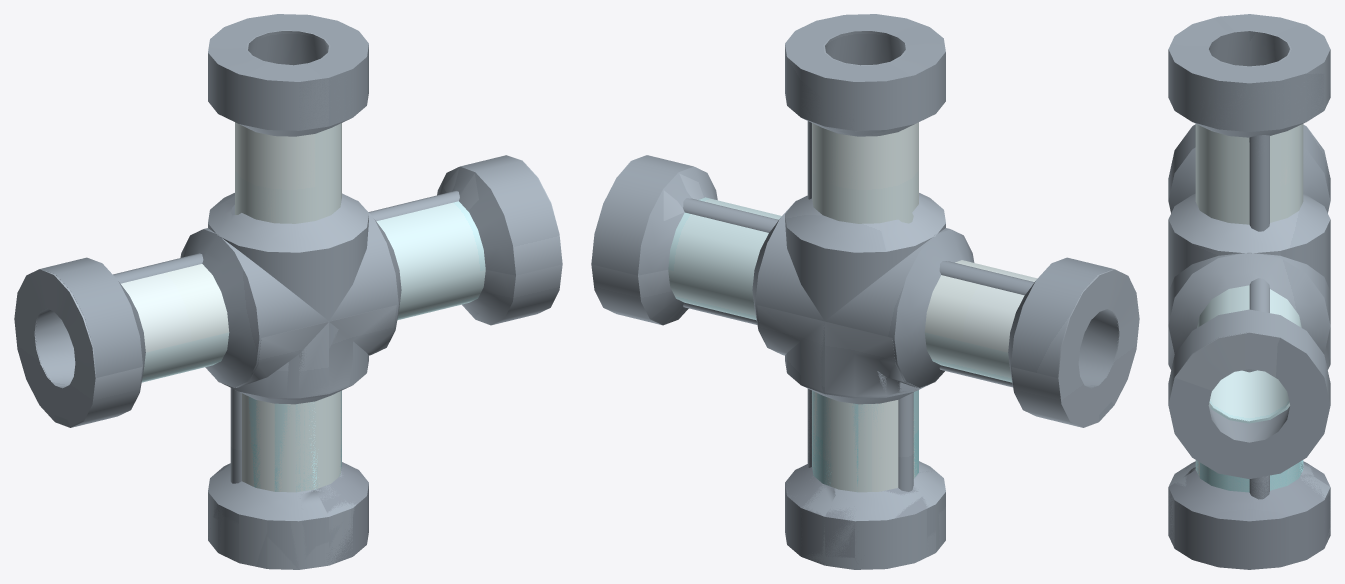
File: Pipes_MESH.FBX
3 renders of one model, left to right at view 1: azimuth 30°, elevation 25°; view 2: azimuth 150°, elevation 25°; view 3: azimuth 270°, elevation 25°, orthographic.
Parts seen in each view (by area): view 1: PipePlus, PipeT, PipeStraight, PipeCorner; view 2: PipePlus, PipeT, PipeStraight, PipeCorner; view 3: PipePlus, PipeStraight, PipeT.
Part boxes in pixels (x1=…): PipePlus: x1=35, y1=31, x2=562, y2=569; PipeT: x1=14, y1=157, x2=562, y2=569; PipeStraight: x1=208, y1=14, x2=368, y2=564; PipeCorner: x1=217, y1=235, x2=395, y2=487; PipePlus: x1=591, y1=14, x2=1127, y2=569; PipeT: x1=591, y1=155, x2=1139, y2=569; PipeStraight: x1=785, y1=21, x2=945, y2=565; PipeCorner: x1=758, y1=235, x2=935, y2=433; PipePlus: x1=1168, y1=14, x2=1330, y2=547; PipeStraight: x1=1168, y1=15, x2=1330, y2=569; PipeT: x1=1168, y1=124, x2=1330, y2=545.
Bounding box in the file's own units: 1005 × 1002 × 302.
Materials: 2 (2 with a texture image).
